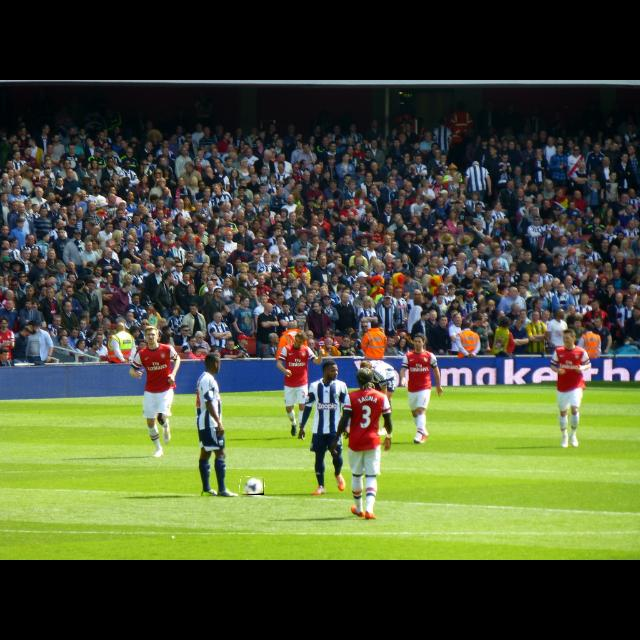Football: (240, 477, 264, 495)
